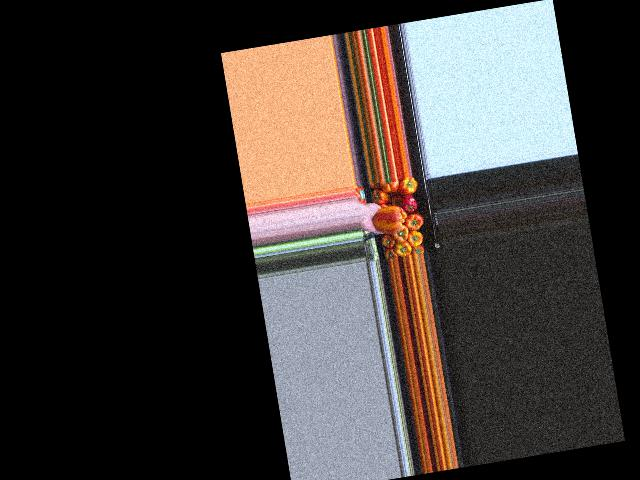bell_pepper: (372, 186, 390, 206)
